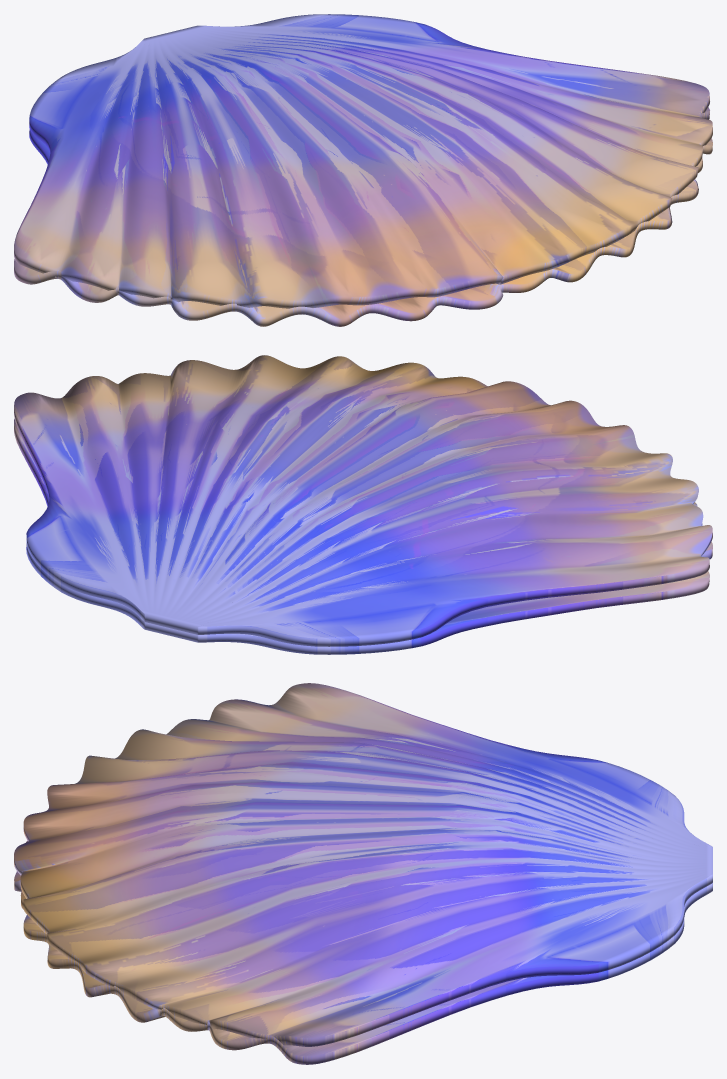
File: shell2.glb
3 renders of one model, top to bottom at view 1: azimuth 30°, elevation 25°; view 2: azimuth 150°, elevation 25°; view 3: azimuth 270°, elevation 25°, orthographic. The views are drawn at different scales.
Visible parts, largest first — view 1: Object_3, Object_4; view 2: Object_3, Object_4; view 3: Object_3, Object_4.
Boxes of the visible parts, x1,y1,x2,y2 form: Object_3: (14, 14, 712, 308); Object_4: (14, 107, 712, 326); Object_3: (14, 355, 712, 646); Object_4: (14, 419, 712, 654); Object_3: (14, 683, 712, 1046); Object_4: (14, 705, 712, 1064).
Bounding box in the file's own units: 9.16 × 1.48 × 7.61.
Materials: 2 (1 with a texture image).
